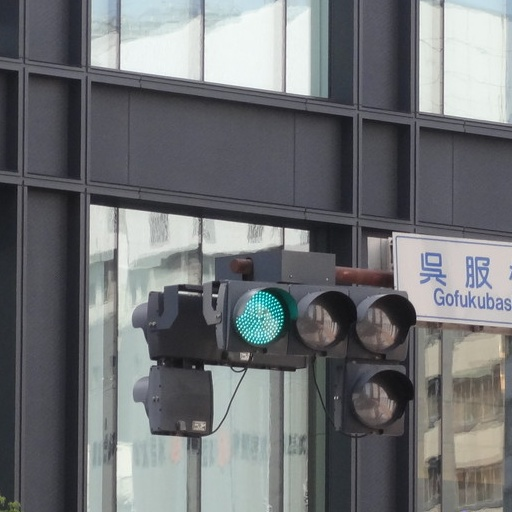Traffic_Signal_Blue: (224, 277, 418, 369)
